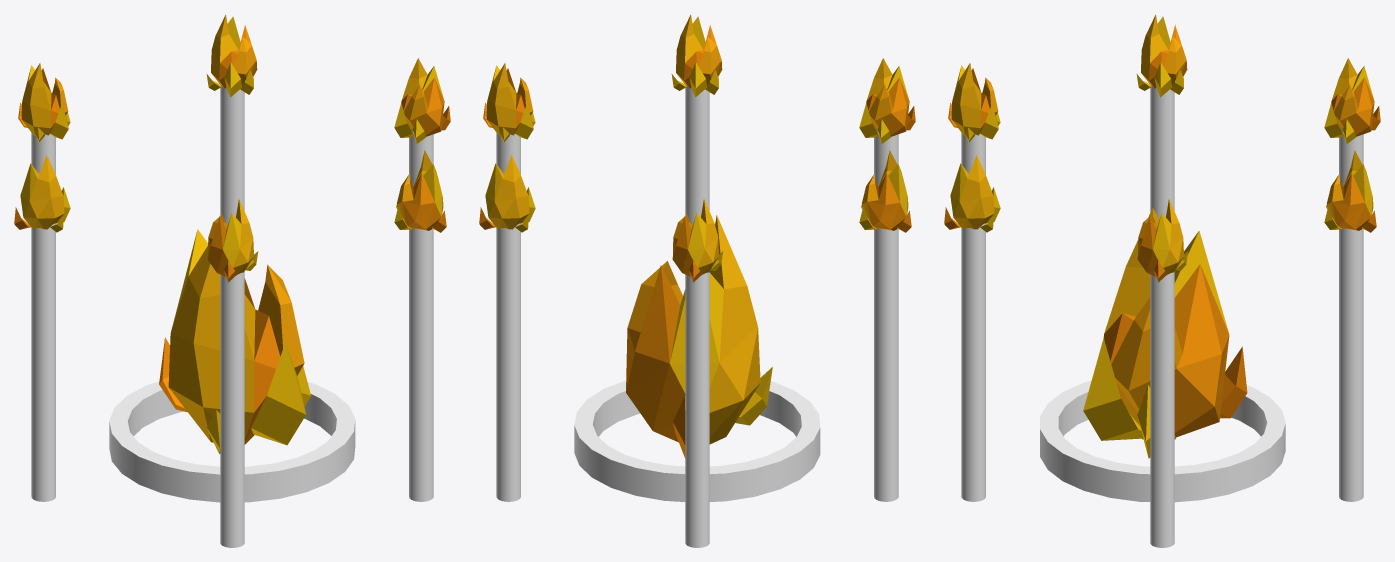
Rendered from unitcreate_building_fire.FBX.
3 renders of one model, left to right at view 1: azimuth 30°, elevation 25°; view 2: azimuth 150°, elevation 25°; view 3: azimuth 270°, elevation 25°, orthographic.
Visible parts, largest first — view 1: campfire001, Tube001, Cylinder004, Cylinder006, Cylinder005, Cylinder002, campfire005, campfire006, campfire002, campfire004, campfire, campfire003 (+2 smaller); view 2: campfire001, Tube001, Cylinder002, Cylinder004, Cylinder003, Cylinder006, campfire003, campfire004, campfire006, campfire002, campfire005, campfire (+2 smaller); view 3: campfire001, Tube001, Cylinder006, Cylinder002, Cylinder001, Cylinder004, campfire, campfire002, campfire004, campfire006, campfire003, campfire005 (+2 smaller).
Boxes of the visible parts, bbox=[...] form: campfire001: bbox=[159, 229, 311, 453]; Tube001: bbox=[109, 381, 355, 502]; Cylinder004: bbox=[31, 223, 55, 501]; Cylinder006: bbox=[409, 228, 433, 501]; Cylinder005: bbox=[220, 272, 244, 547]; Cylinder002: bbox=[220, 84, 244, 225]; campfire005: bbox=[394, 58, 450, 143]; campfire006: bbox=[206, 14, 257, 97]; campfire002: bbox=[14, 155, 70, 232]; campfire004: bbox=[394, 150, 446, 232]; campfire: bbox=[18, 63, 70, 141]; campfire003: bbox=[207, 199, 258, 282]; campfire001: bbox=[626, 215, 772, 458]; Tube001: bbox=[574, 380, 820, 501]; Cylinder002: bbox=[496, 223, 520, 501]; Cylinder004: bbox=[874, 228, 898, 501]; Cylinder003: bbox=[685, 272, 709, 547]; Cylinder006: bbox=[685, 84, 709, 225]; campfire003: bbox=[859, 58, 915, 143]; campfire004: bbox=[671, 14, 722, 97]; campfire006: bbox=[479, 155, 535, 232]; campfire002: bbox=[859, 150, 911, 232]; campfire005: bbox=[483, 63, 535, 141]; campfire: bbox=[672, 199, 723, 282]; campfire001: bbox=[1083, 208, 1247, 458]; Tube001: bbox=[1040, 380, 1285, 502]; Cylinder006: bbox=[961, 223, 985, 501]; Cylinder002: bbox=[1339, 228, 1363, 501]; Cylinder001: bbox=[1150, 272, 1174, 547]; Cylinder004: bbox=[1150, 84, 1174, 219]; campfire: bbox=[1324, 58, 1380, 143]; campfire002: bbox=[1136, 14, 1187, 97]; campfire004: bbox=[944, 155, 1000, 232]; campfire006: bbox=[1324, 150, 1376, 232]; campfire003: bbox=[948, 63, 1000, 141]; campfire005: bbox=[1137, 199, 1188, 282].
Size of the model in its own units: 81.02 by 61.64 by 70.82.
2 materials, 2 textured.
